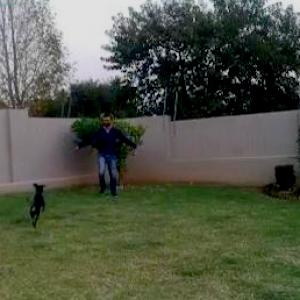land: (62, 102, 138, 206)
